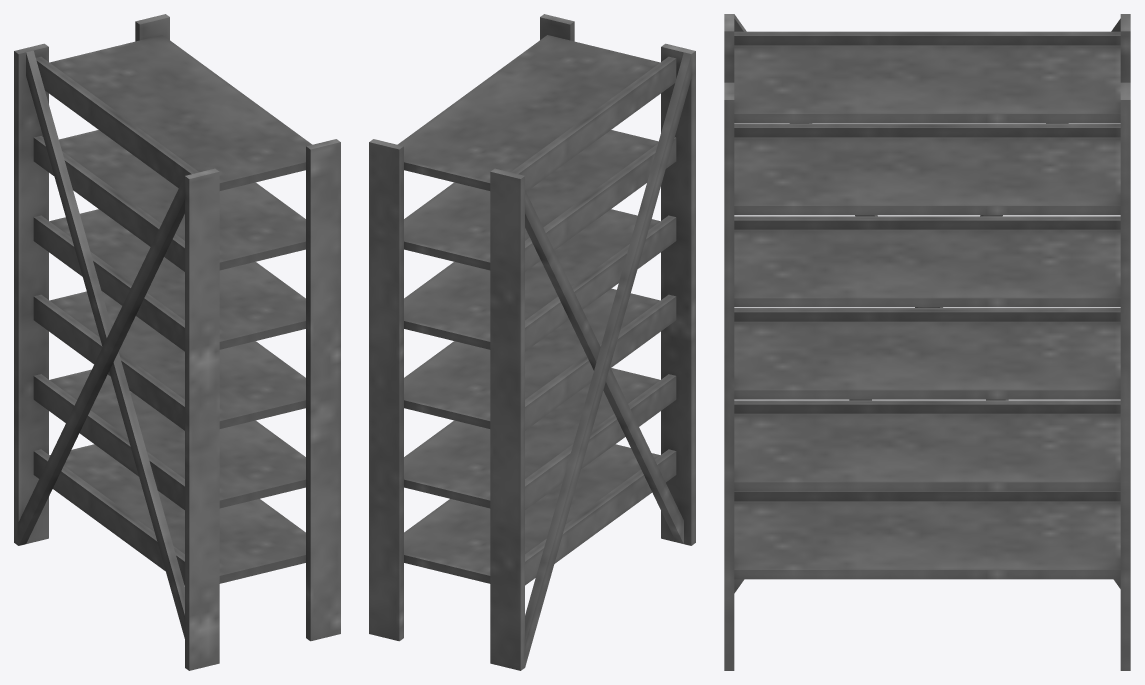
Rendered from rack_2.obj.
3 renders of one model, left to right at view 1: azimuth 30°, elevation 25°; view 2: azimuth 150°, elevation 25°; view 3: azimuth 270°, elevation 25°, orthographic. The views are drawn at different scales.
Parts seen in each view (by area): view 1: 2_rack; view 2: 2_rack; view 3: 2_rack.
Boxes of the visible parts, bbox=[...] form: 2_rack: bbox=[14, 14, 340, 670]; 2_rack: bbox=[369, 14, 695, 670]; 2_rack: bbox=[724, 14, 1130, 670].
Size of the model in its own units: 1 by 3.1 by 2.
